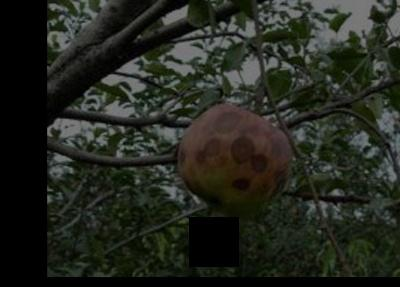rotten apple: (184, 103, 292, 202)
